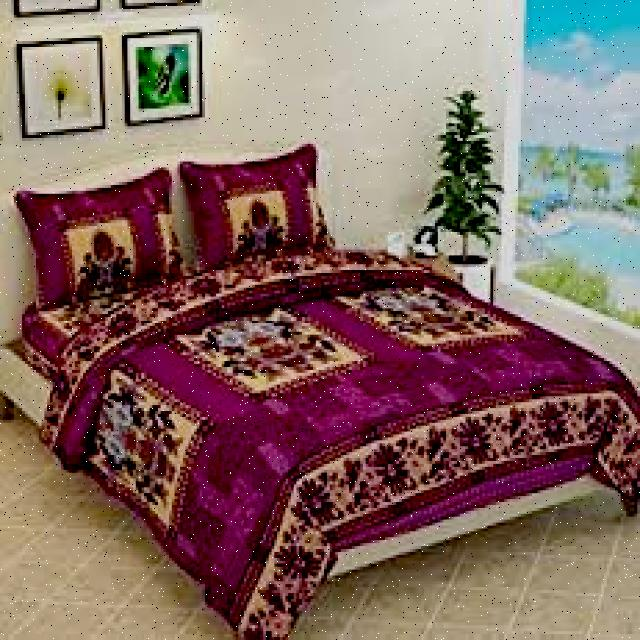bed: (14, 165, 623, 481)
